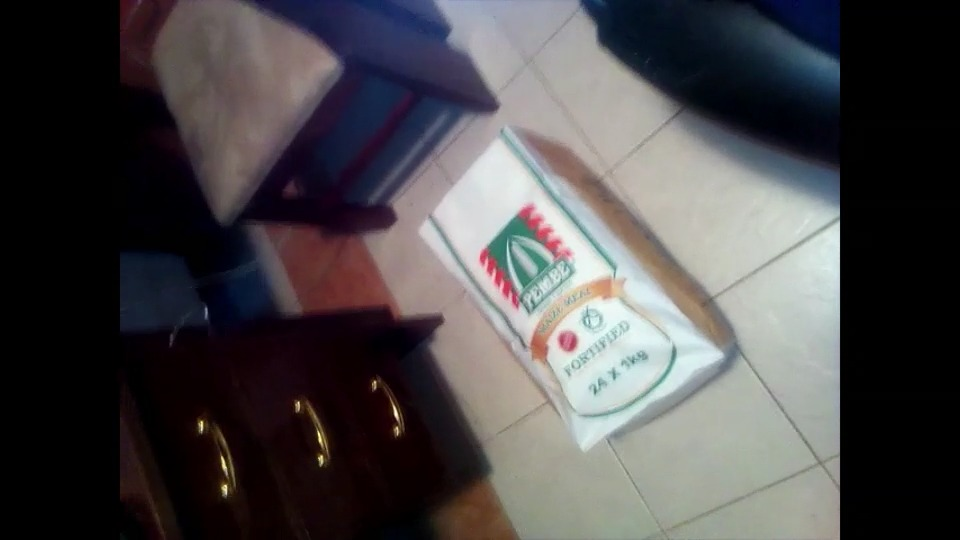maize_flour_green_label: (411, 127, 738, 453)
